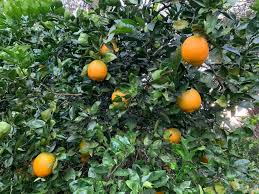orange: (175, 34, 211, 66), (32, 148, 60, 177), (172, 87, 202, 113), (83, 58, 111, 81), (159, 125, 181, 147)
